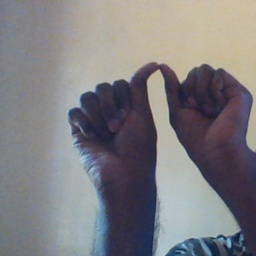A: (64, 61, 255, 175)
